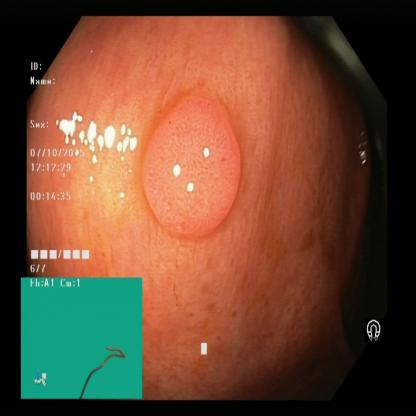Labels: (25, 57, 106, 277), (21, 275, 144, 401), (364, 312, 384, 346)
Polyps: (139, 95, 241, 237)
